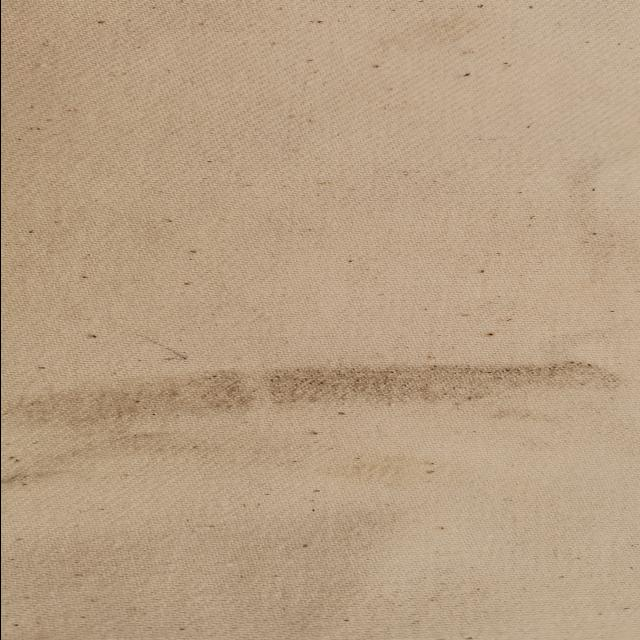taaaches: (18, 334, 640, 450), (0, 470, 42, 492)
